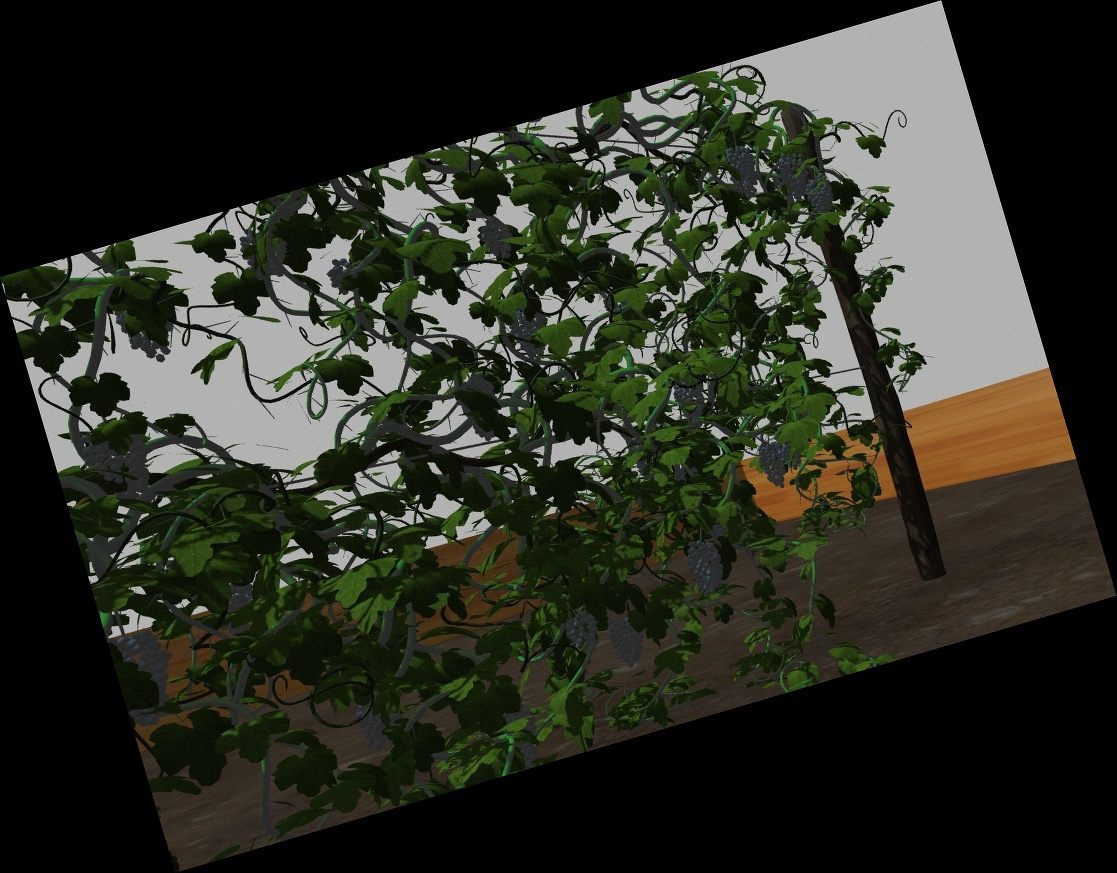grape: (124, 629, 177, 724), (242, 228, 289, 278), (118, 431, 152, 492), (357, 700, 403, 744), (687, 539, 723, 595), (84, 436, 123, 486), (511, 310, 550, 360), (611, 617, 648, 668), (566, 612, 601, 657), (759, 441, 792, 488), (324, 255, 364, 291), (731, 147, 758, 200), (779, 154, 809, 200), (482, 216, 512, 257), (674, 381, 706, 419), (808, 178, 835, 214)
